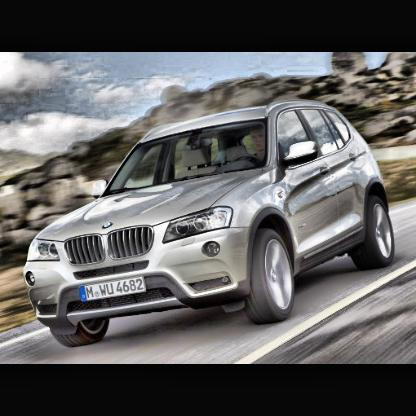BMW X3 SUV 2012: (23, 101, 397, 348)
